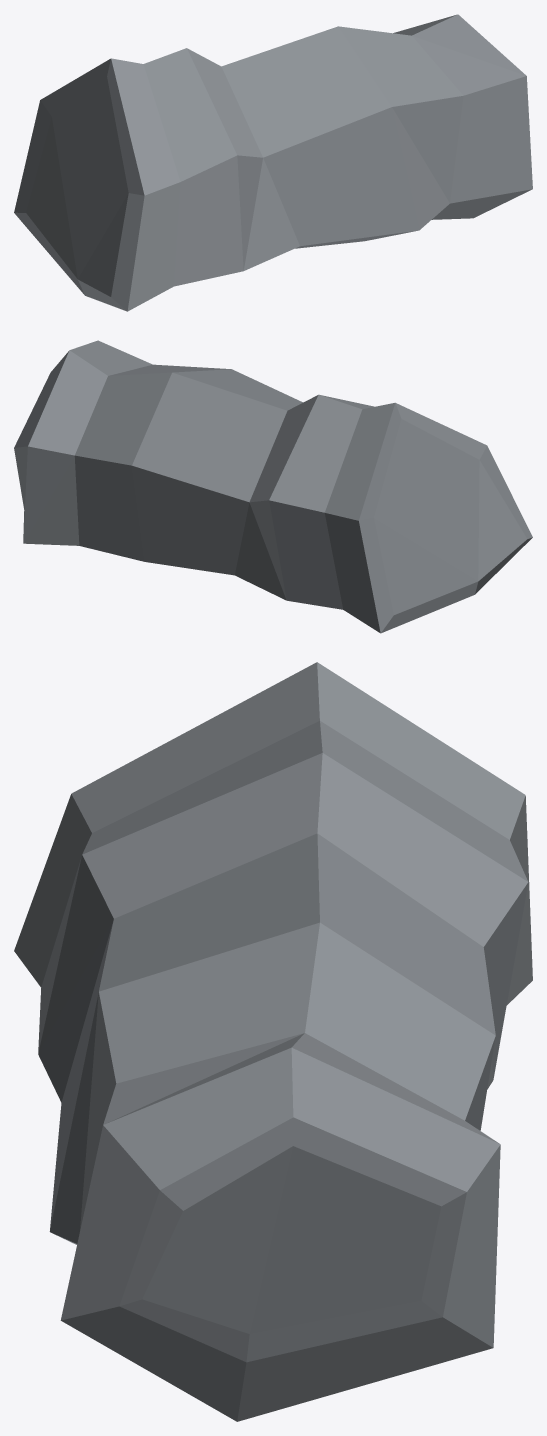
The model's file is Chr_ArmUpperLeft_Male_14_Static.fbx.
3 renders of one model, top to bottom at view 1: azimuth 30°, elevation 25°; view 2: azimuth 150°, elevation 25°; view 3: azimuth 270°, elevation 25°, orthographic. The views are drawn at different scales.
Parts seen in each view (by area): view 1: Chr_ArmUpperLeft_Male_14_Static; view 2: Chr_ArmUpperLeft_Male_14_Static; view 3: Chr_ArmUpperLeft_Male_14_Static.
Part boxes in pixels (x1=…): Chr_ArmUpperLeft_Male_14_Static: x1=14, y1=14, x2=532, y2=311; Chr_ArmUpperLeft_Male_14_Static: x1=14, y1=340, x2=532, y2=633; Chr_ArmUpperLeft_Male_14_Static: x1=14, y1=662, x2=532, y2=1421.
Size of the model in its own units: 0.3255 by 0.1625 by 0.1736.
